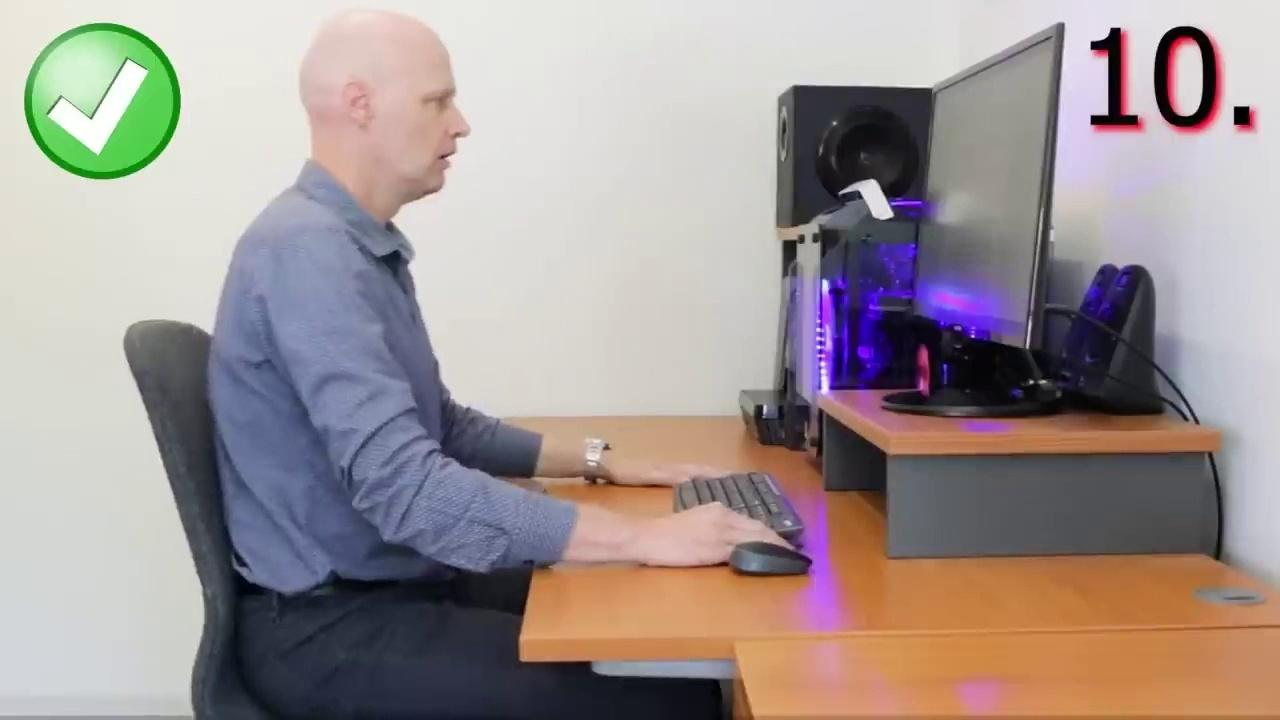GoodPosture: (209, 10, 788, 719)
